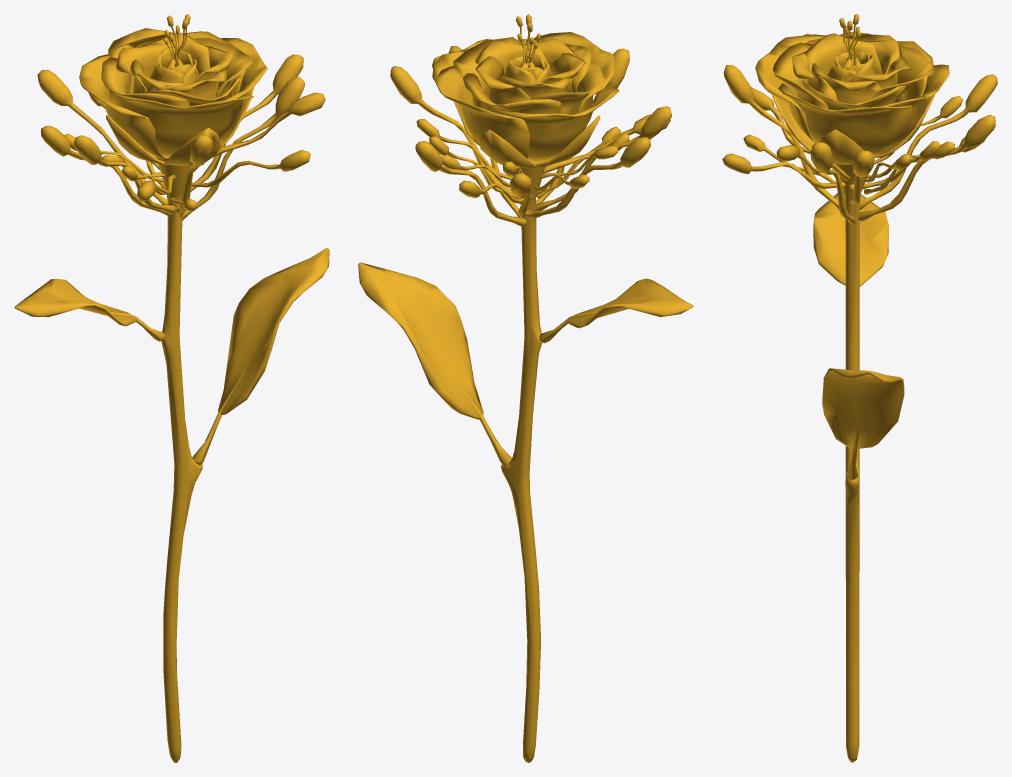
File: rose.gltf
3 renders of one model, left to right at view 1: azimuth 30°, elevation 25°; view 2: azimuth 150°, elevation 25°; view 3: azimuth 270°, elevation 25°, orthographic.
Parts seen in each view (by area): view 1: Cube.002; view 2: Cube.002; view 3: Cube.002.
Part boxes in pixels (x1,y1,x2,y2): Cube.002: (14, 14, 329, 762); Cube.002: (358, 14, 693, 762); Cube.002: (722, 14, 997, 762).
Size of the model in its own units: 1.13 by 2.48 by 0.8293.
